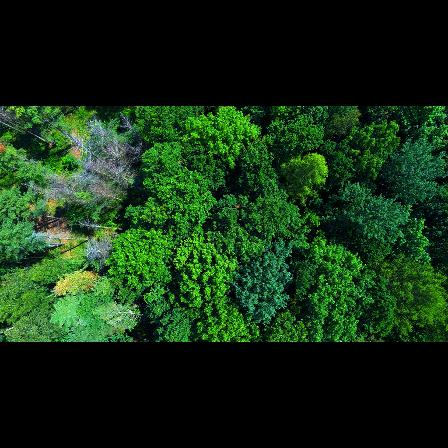Dead: (44, 119, 104, 165), (91, 123, 137, 161), (85, 147, 132, 182), (24, 180, 74, 205), (84, 180, 128, 204), (85, 240, 119, 271), (77, 217, 128, 235), (122, 116, 145, 146), (67, 171, 108, 187)
